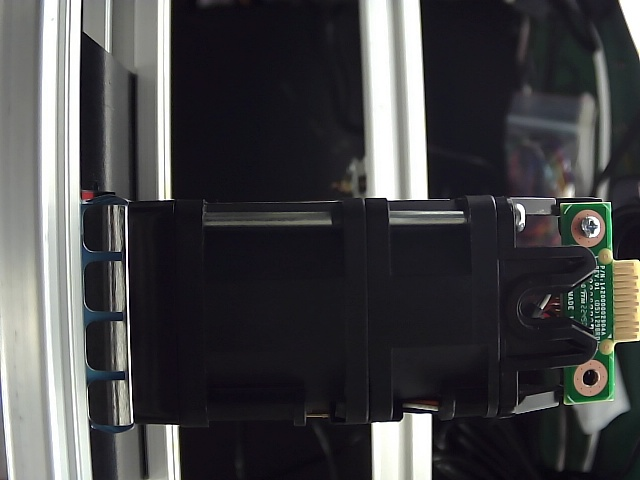4_1: (556, 342, 620, 410)
